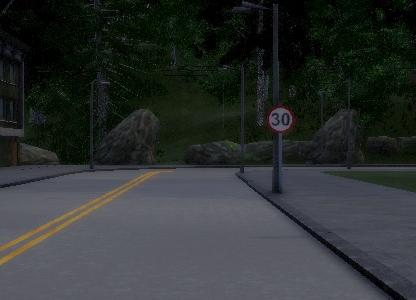Speed_30: (268, 105, 294, 134)
